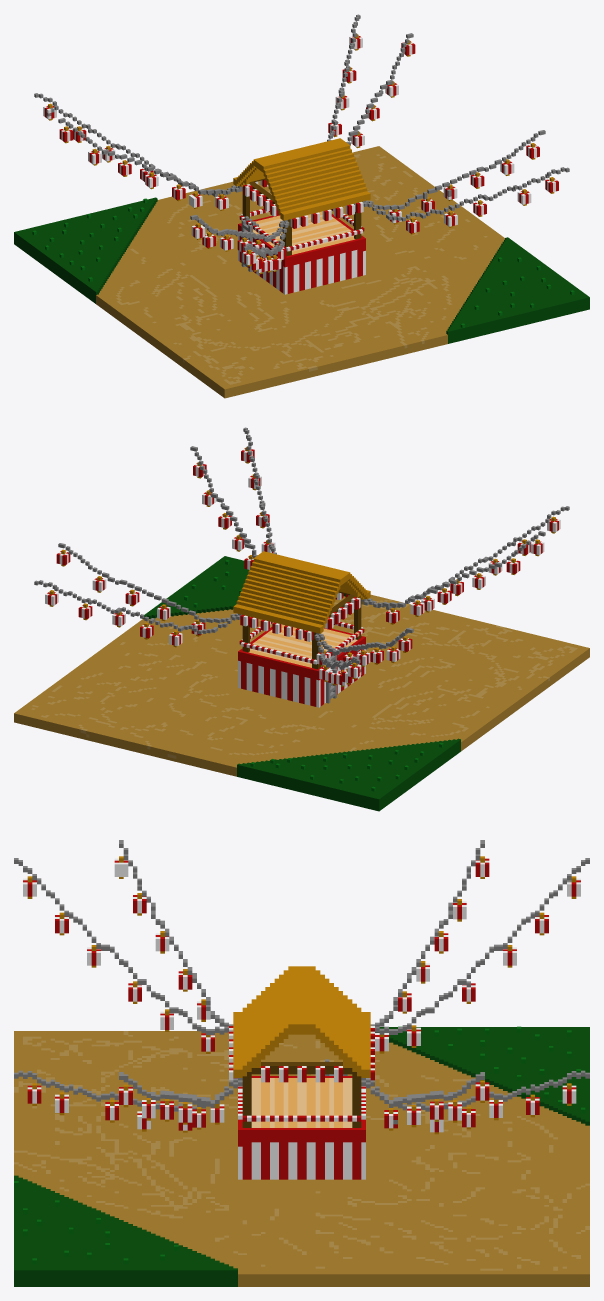
The model's file is haikei3.fbx.
3 renders of one model, top to bottom at view 1: azimuth 30°, elevation 25°; view 2: azimuth 150°, elevation 25°; view 3: azimuth 270°, elevation 25°, orthographic. The views are drawn at different scales.
Parts seen in each view (by area): view 1: ObjObject; view 2: ObjObject; view 3: ObjObject.
Boxes of the visible parts, x1=… form: ObjObject: x1=14, y1=14, x2=589, y2=398; ObjObject: x1=14, y1=427, x2=589, y2=811; ObjObject: x1=14, y1=840, x2=589, y2=1286.
Bounding box in the file's own units: 1260 × 500 × 1260.
Materials: 1 (1 with a texture image).
